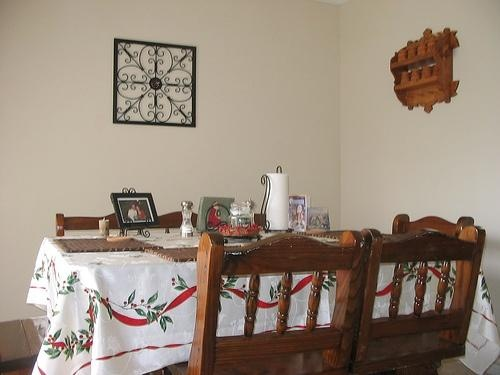chair: (168, 233, 367, 375), (352, 227, 488, 375), (392, 215, 476, 235)
diningtable: (27, 229, 500, 375)
